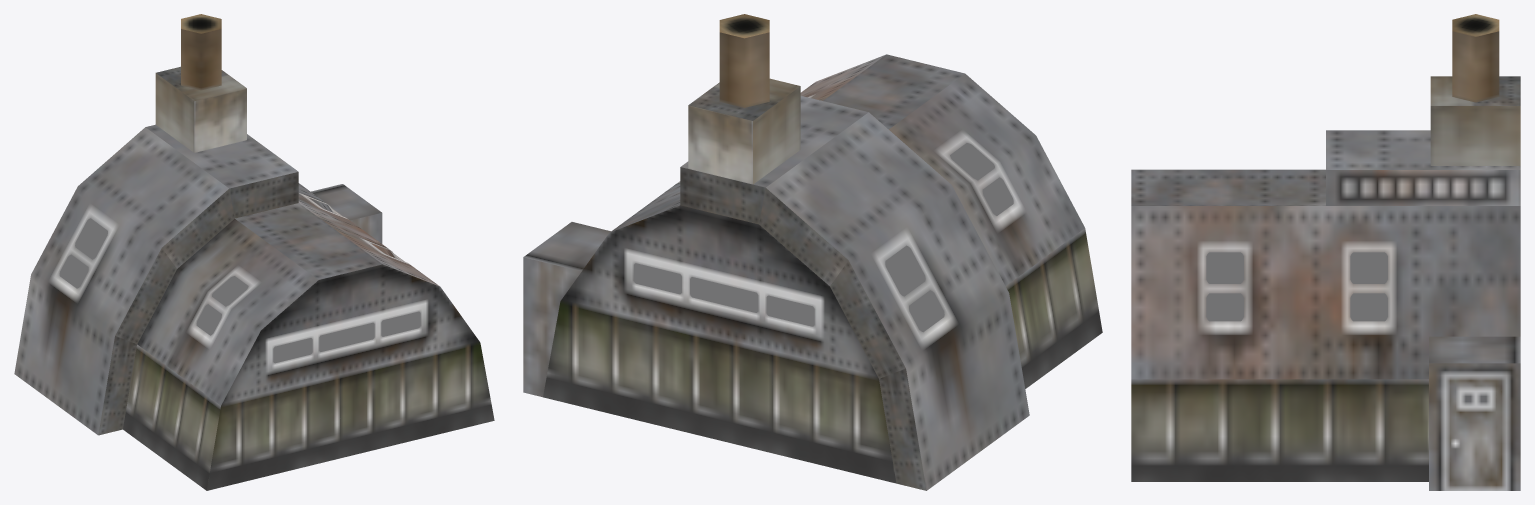
File: singlecivlivinga.glb
The picture shows the model from 3 angles, left to right: view 1: azimuth 30°, elevation 25°; view 2: azimuth 150°, elevation 25°; view 3: azimuth 270°, elevation 25°; orthographic projection. The views are drawn at different scales.
Visible parts, largest first — view 1: Cylinder04, LitWin_SingleCivLivingA; view 2: Cylinder04, LitWin_SingleCivLivingA; view 3: Cylinder04, LitWin_SingleCivLivingA.
Boxes of the visible parts, box(x1,y1,x2,y2) form: Cylinder04: box(14, 14, 494, 490); LitWin_SingleCivLivingA: box(59, 218, 420, 363); Cylinder04: box(523, 14, 1102, 490); LitWin_SingleCivLivingA: box(634, 143, 1013, 332); Cylinder04: box(1131, 14, 1520, 490); LitWin_SingleCivLivingA: box(1206, 252, 1387, 321).
Bounding box in the file's own units: 7.85 × 7.38 × 6.95.
Materials: 1 (1 with a texture image).
